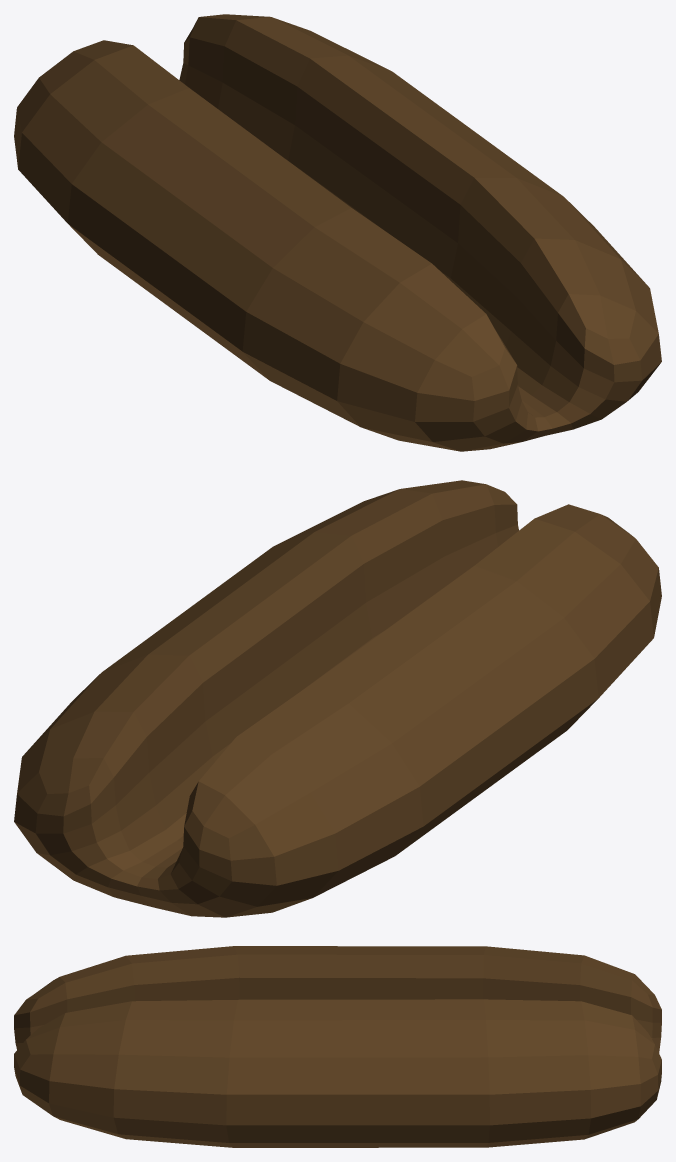
Rendered from Hotdog_Bun.obj.
3 renders of one model, top to bottom at view 1: azimuth 30°, elevation 25°; view 2: azimuth 150°, elevation 25°; view 3: azimuth 270°, elevation 25°, orthographic. The views are drawn at different scales.
Visible parts, largest first — view 1: Hotdog_Bun_Cube.007; view 2: Hotdog_Bun_Cube.007; view 3: Hotdog_Bun_Cube.007.
Boxes of the visible parts, x1,y1,x2,y2 form: Hotdog_Bun_Cube.007: (14,14,661,451); Hotdog_Bun_Cube.007: (14,480,661,917); Hotdog_Bun_Cube.007: (14,946,661,1147).
Size of the model in its own units: 0.7853 by 0.4094 by 1.64.
